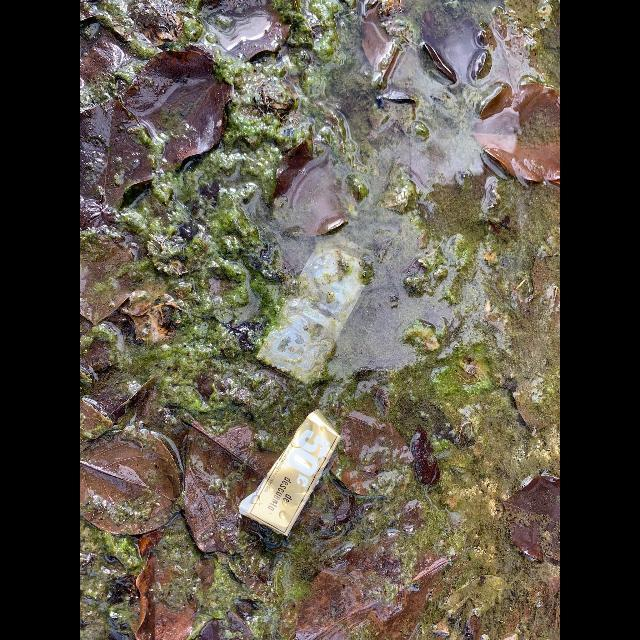Plastic: (256, 233, 374, 384), (240, 409, 340, 536)
